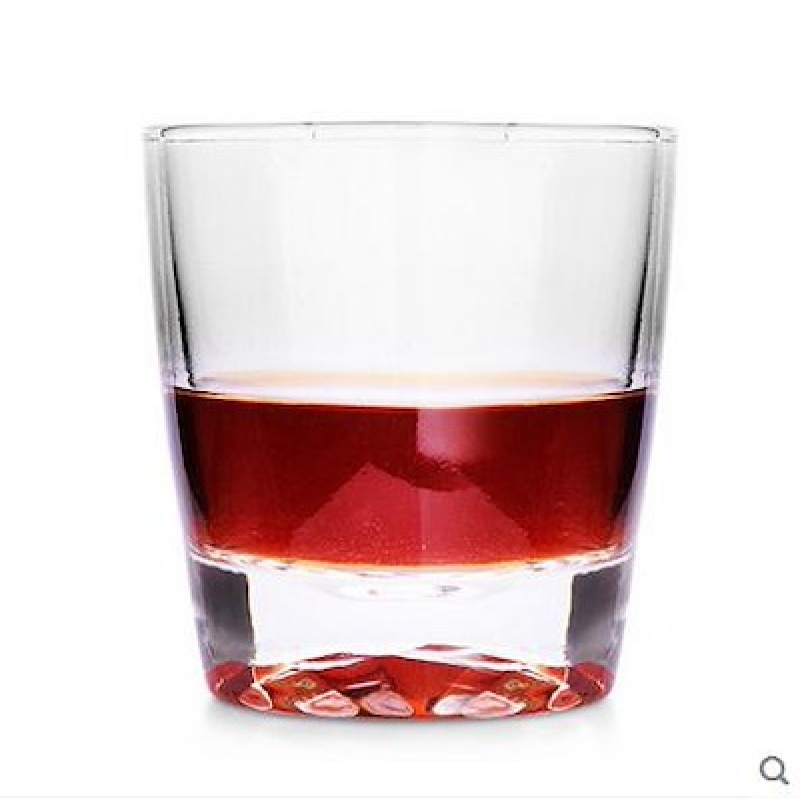whiskey: (142, 118, 647, 714)
